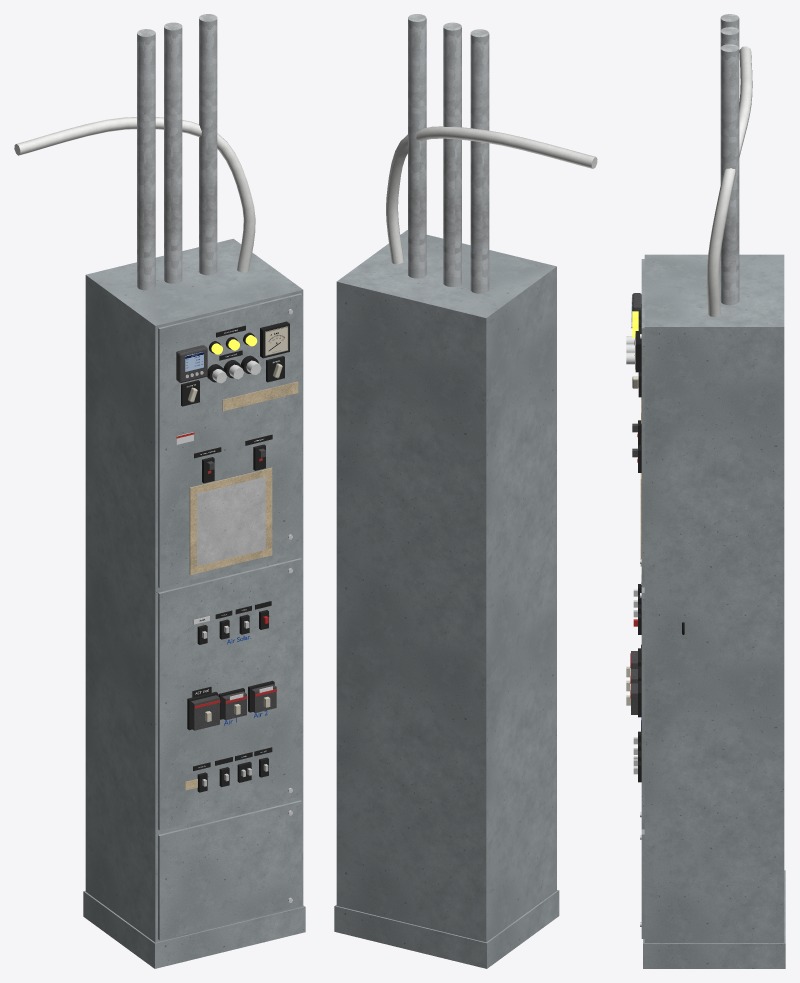
The model's file is B08_MDB.fbx.
The picture shows the model from 3 angles, left to right: view 1: azimuth 30°, elevation 25°; view 2: azimuth 150°, elevation 25°; view 3: azimuth 270°, elevation 25°; orthographic projection.
Visible parts, largest first — view 1: Body, Door_Middle, Door_Top, Door_Bottom, Plinth.001, TapedPatch, Conduit_Top_1, Conduit_Top_2, Conduit_Top_3, FlexConduit_Top, Tape_Strip, MCCB_1_Body (+3 smaller); view 2: Body, Plinth.001, Conduit_Top_1, Conduit_Top_3, Conduit_Top_2, FlexConduit_Top; view 3: Body, Conduit_Top_3, Plinth.001, FlexConduit_Top, Door_Top, Door_Middle, Door_Bottom.
Part boxes in pixels (left/top/right/bottom): Body: left=85, top=238, right=303, bottom=942; Door_Middle: left=158, top=558, right=301, bottom=830; Door_Top: left=158, top=293, right=301, bottom=588; Door_Bottom: left=158, top=800, right=301, bottom=940; Plinth.001: left=83, top=891, right=305, bottom=968; TapedPatch: left=197, top=477, right=265, bottom=566; Conduit_Top_1: left=137, top=29, right=155, bottom=290; Conduit_Top_2: left=164, top=22, right=182, bottom=283; Conduit_Top_3: left=199, top=14, right=217, bottom=275; FlexConduit_Top: left=14, top=117, right=255, bottom=272; Tape_Strip: left=222, top=381, right=298, bottom=411; MCCB_1_Body: left=191, top=695, right=219, bottom=730; Body: left=336, top=230, right=556, bottom=942; Plinth.001: left=334, top=890, right=559, bottom=968; Conduit_Top_1: left=470, top=29, right=489, bottom=293; Conduit_Top_3: left=408, top=14, right=426, bottom=278; Conduit_Top_2: left=443, top=22, right=461, bottom=286; FlexConduit_Top: left=386, top=126, right=597, bottom=264; Body: left=644, top=254, right=784, bottom=942; Conduit_Top_3: left=720, top=44, right=739, bottom=305; Plinth.001: left=643, top=870, right=785, bottom=968; FlexConduit_Top: left=707, top=46, right=752, bottom=316; Door_Top: left=641, top=259, right=644, bottom=587; Door_Middle: left=641, top=587, right=644, bottom=829; Door_Bottom: left=641, top=829, right=644, bottom=938.
Bounding box in the file's own units: 0.9061 × 3.18 × 0.514.
Materials: 18 (12 with a texture image).
